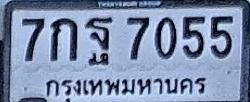0: (155, 17, 176, 58)
5: (182, 16, 205, 58), (210, 15, 232, 58)
7: (127, 16, 149, 60), (22, 18, 44, 61)
A01: (50, 17, 79, 62)
A16: (84, 16, 113, 66)
BKK: (42, 73, 209, 101)
